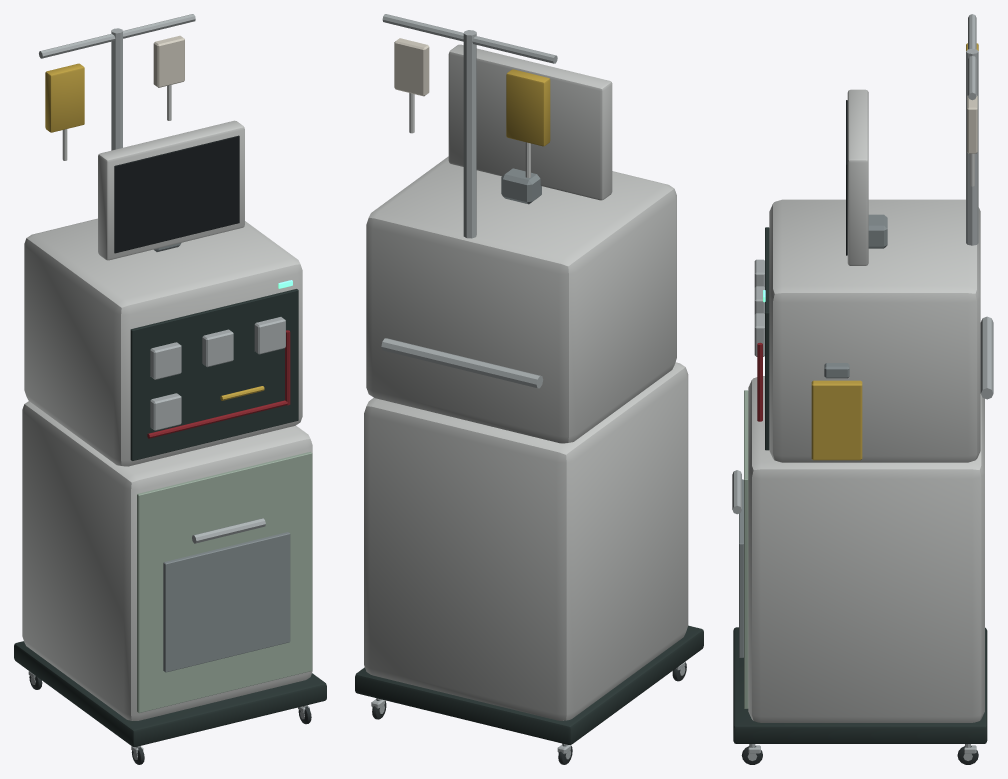
Rendered from apheresis-machine.glb.
3 renders of one model, left to right at view 1: azimuth 30°, elevation 25°; view 2: azimuth 150°, elevation 25°; view 3: azimuth 270°, elevation 25°, orthographic. The views are drawn at different scales.
Visible parts, largest first — view 1: apheresis-machine; view 2: apheresis-machine; view 3: apheresis-machine.
Boxes of the visible parts, left/top/right/bottom form: apheresis-machine: left=14, top=14, right=326, bottom=764; apheresis-machine: left=355, top=14, right=703, bottom=764; apheresis-machine: left=732, top=14, right=993, bottom=764.
Size of the model in its own units: 0.58 by 1.75 by 0.6172.
